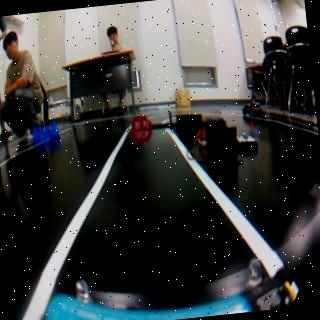stop: (129, 112, 155, 144)
